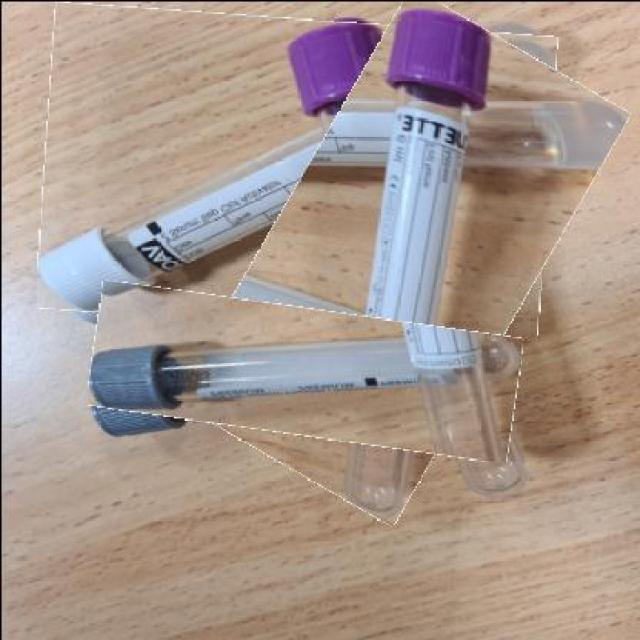Experimental-tube: (223, 2, 579, 509), (38, 9, 551, 332), (88, 293, 518, 449)
